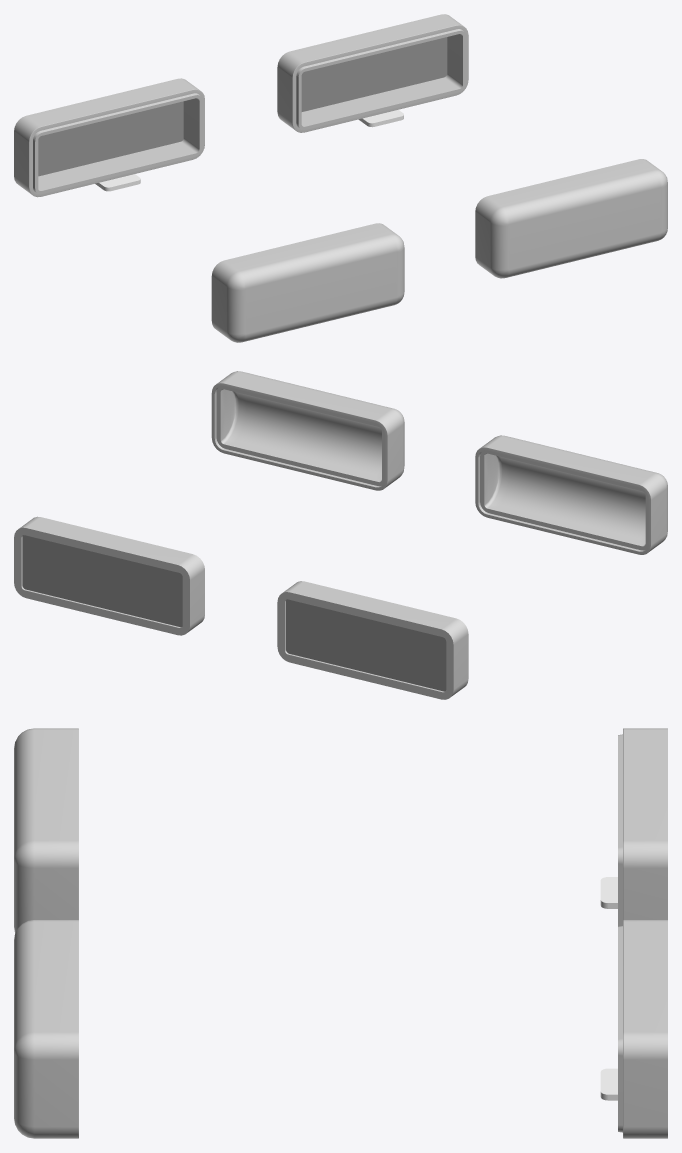
Rendered from Level.fbx.
The picture shows the model from 3 angles, top to bottom: view 1: azimuth 30°, elevation 25°; view 2: azimuth 150°, elevation 25°; view 3: azimuth 270°, elevation 25°; orthographic projection. The views are drawn at different scales.
Parts seen in each view (by area): view 1: CoinStak_Big_Top (×2), CoinStak_Big, NEXTBox; view 2: CoinStak_Big_Top (×2), NEXTBox, CoinStak_Big; view 3: CoinStak_Big_Top (×2), NEXTBox, CoinStak_Big.
Boxes of the visible parts, x1,y1,x2,y2 form: CoinStak_Big_Top (×2): (14,14,468,197); CoinStak_Big: (211,223,404,342); NEXTBox: (475,159,667,278); CoinStak_Big_Top (×2): (14,516,468,699); NEXTBox: (211,371,404,490); CoinStak_Big: (475,435,667,554); CoinStak_Big_Top (×2): (600,728,667,1138); NEXTBox: (14,920,78,1138); CoinStak_Big: (14,728,78,932).
Size of the model in its own units: 8.34 by 1.35 by 7.21.
Materials: 3 (1 with a texture image).
